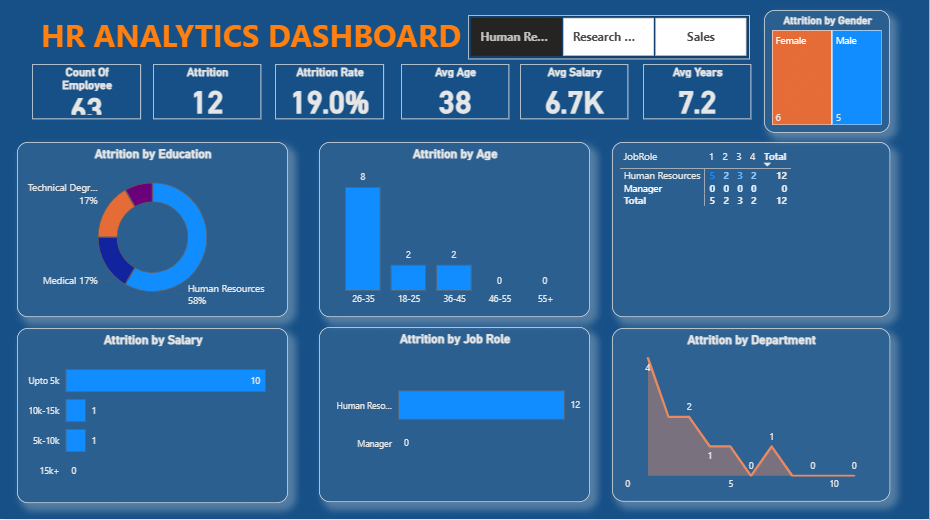

Layout of this report page (visuals, bound fields, positions):
{"tool":"powerbi","page":{"name":"Page 1","canvas":[1280,720],"ordinal":0},"visuals":[{"type":"card","title":"Count Of Employee","fields":{"Values":["CountNonNull(HR_Analytics.EmpID)"]},"box":[45.4,93.6,150,75.7],"z":0},{"type":"card","title":"Avg Age","fields":{"Values":["Avg(HR_Analytics.Age)"]},"box":[553.3,93.6,148.6,75.7],"z":1000},{"type":"card","title":"Attrition Rate","fields":{"Values":["HR_Analytics.AttritionRate"]},"box":[379.9,93.6,150,75.7],"z":2000},{"type":"card","title":"Attrition","fields":{"Values":["Sum(HR_Analytics.AttritionAdd)"]},"box":[212,93.6,148.6,75.7],"z":3000},{"type":"card","title":"Avg Salary","fields":{"Values":["Avg(HR_Analytics.MonthlyIncome)"]},"box":[717.1,93.6,148.6,75.7],"z":4000},{"type":"card","title":"Avg Years","fields":{"Values":["Avg(HR_Analytics.YearsAtCompany)"]},"box":[886.4,93.6,148.6,75.7],"z":5000},{"type":"donutChart","title":"Attrition by Education","fields":{"Category":["HR_Analytics.EducationField"],"Y":["Sum(HR_Analytics.AttritionAdd)"]},"box":[24.8,200.9,373,240.9],"z":6000},{"type":"columnChart","title":"Attrition by Age","fields":{"Category":["HR_Analytics.AgeGroup"],"Y":["Sum(HR_Analytics.AttritionAdd)"]},"box":[440.4,200.9,373,240.9],"z":7000},{"type":"pivotTable","fields":{"Rows":["HR_Analytics.JobRole"],"Columns":["HR_Analytics.JobSatisfaction"],"Values":["Sum(HR_Analytics.AttritionAdd)"]},"box":[843.7,200.9,382.6,240.9],"z":8000},{"type":"barChart","title":"Attrition by Salary","fields":{"Category":["HR_Analytics.SalarySlab"],"Y":["Sum(HR_Analytics.AttritionAdd)"]},"box":[24.8,456.9,373,240.9],"z":9000},{"type":"barChart","title":"Attrition by Job Role","fields":{"Category":["HR_Analytics.JobRole"],"Y":["Sum(HR_Analytics.AttritionAdd)"]},"box":[440.4,455.6,373,240.9],"z":10000},{"type":"areaChart","title":"Attrition by Department ","fields":{"Category":["HR_Analytics.YearsAtCompany"],"Y":["Sum(HR_Analytics.AttritionAdd)"]},"box":[843.7,456.9,382.6,239.5],"z":11000},{"type":"treemap","title":"Attrition by Gender","fields":{"Group":["HR_Analytics.Gender"],"Values":["Sum(HR_Analytics.AttritionAdd)"]},"box":[1052.9,19.3,173.4,169.3],"z":12000},{"type":"advancedSlicerVisual","fields":{"Values":["HR_Analytics.Department"]},"box":[646,26.2,388,60.6],"z":13000},{"type":"textbox","box":[24.8,19.3,644.1,67.4],"z":14000}]}

Visuals, with their boxes in screenshot pixels (x1, y1, x2, y2), scaled from the page's 1280x720 canvas onto the 930x520 screenshot:
"Count Of Employee" card: (x1=33, y1=68, x2=142, y2=122)
"Avg Age" card: (x1=402, y1=68, x2=510, y2=122)
"Attrition Rate" card: (x1=276, y1=68, x2=385, y2=122)
"Attrition" card: (x1=154, y1=68, x2=262, y2=122)
"Avg Salary" card: (x1=521, y1=68, x2=629, y2=122)
"Avg Years" card: (x1=644, y1=68, x2=752, y2=122)
"Attrition by Education" donutChart: (x1=18, y1=145, x2=289, y2=319)
"Attrition by Age" columnChart: (x1=320, y1=145, x2=591, y2=319)
pivotTable - HR_Analytics.JobRole x HR_Analytics.JobSatisfaction: (x1=613, y1=145, x2=891, y2=319)
"Attrition by Salary" barChart: (x1=18, y1=330, x2=289, y2=504)
"Attrition by Job Role" barChart: (x1=320, y1=329, x2=591, y2=503)
"Attrition by Department " areaChart: (x1=613, y1=330, x2=891, y2=503)
"Attrition by Gender" treemap: (x1=765, y1=14, x2=891, y2=136)
advancedSlicerVisual - HR_Analytics.Department: (x1=469, y1=19, x2=751, y2=63)
textbox: (x1=18, y1=14, x2=486, y2=63)
